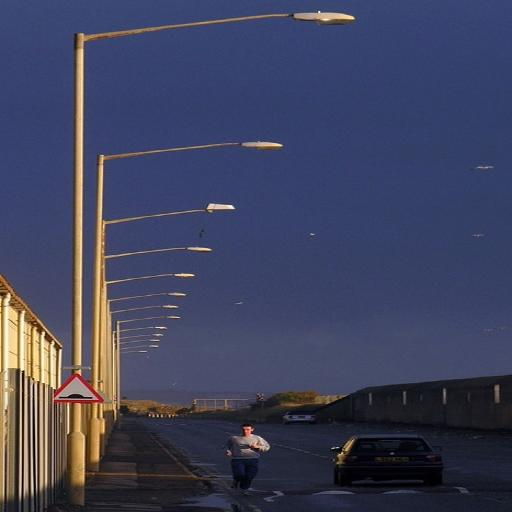off street light: (69, 2, 356, 129), (87, 138, 315, 189), (93, 200, 240, 239)
